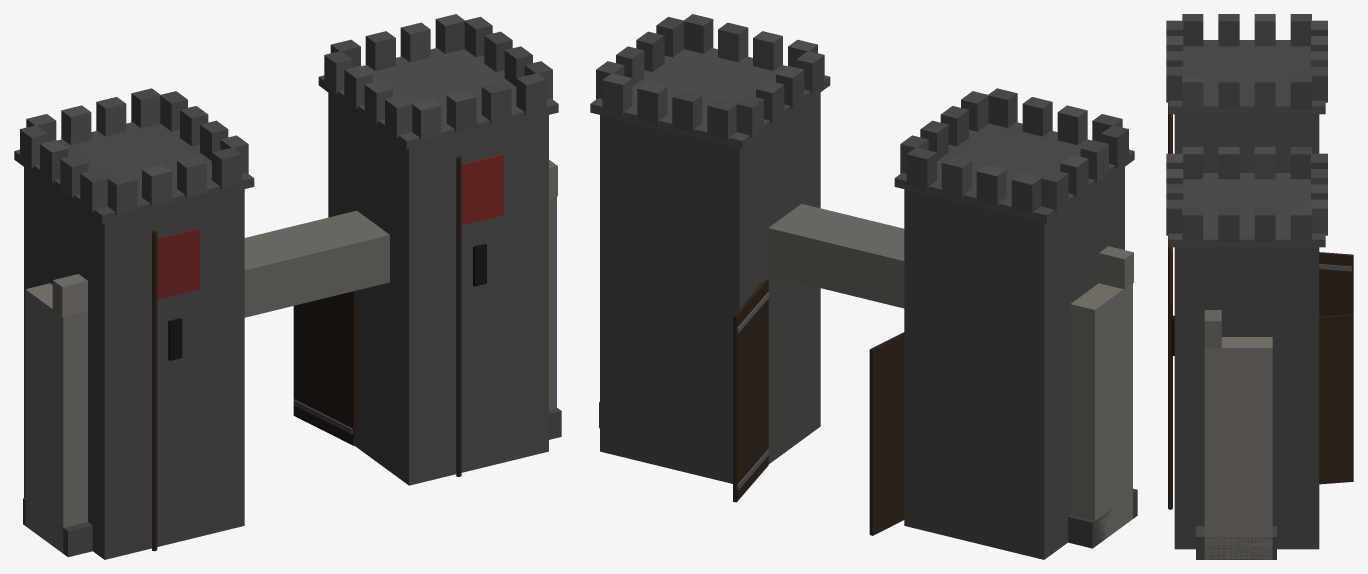
Rendered from walk_freehold_gate.glb.
The picture shows the model from 3 angles, left to right: view 1: azimuth 30°, elevation 25°; view 2: azimuth 150°, elevation 25°; view 3: azimuth 270°, elevation 25°; orthographic projection. The views are drawn at different scales.
Visible parts, largest first — view 1: walk_freehold_gate, walk_freehold_gate_door1; view 2: walk_freehold_gate, walk_freehold_gate_door1, walk_freehold_gate_door0; view 3: walk_freehold_gate, walk_freehold_gate_door1, walk_freehold_gate_door0.
Boxes of the visible parts, x1,y1,x2,y2 form: walk_freehold_gate: (14, 14, 561, 559); walk_freehold_gate_door1: (293, 291, 355, 445); walk_freehold_gate: (590, 14, 1137, 559); walk_freehold_gate_door1: (733, 279, 769, 502); walk_freehold_gate_door0: (869, 332, 904, 535); walk_freehold_gate: (1166, 14, 1327, 559); walk_freehold_gate_door1: (1319, 314, 1353, 484); walk_freehold_gate_door0: (1319, 252, 1353, 316).
Size of what is drawn, in the model's own units: 12.05 by 8.75 by 4.41.
Materials: 2 (2 with a texture image).
